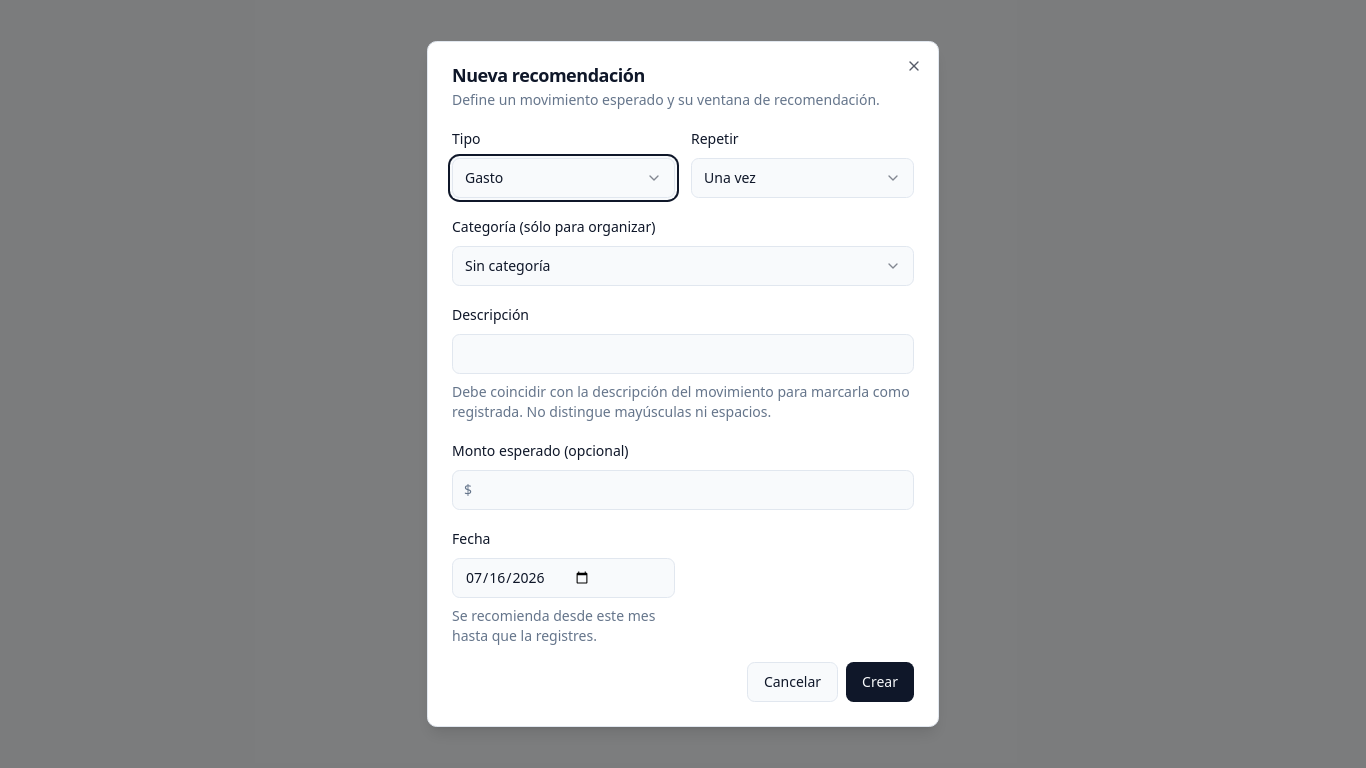
Test: RecommendedForm create › blocks submit without a description, which is the match key
Click the button "Crear". click: (880, 682)
box: 846,662 -> 914,702
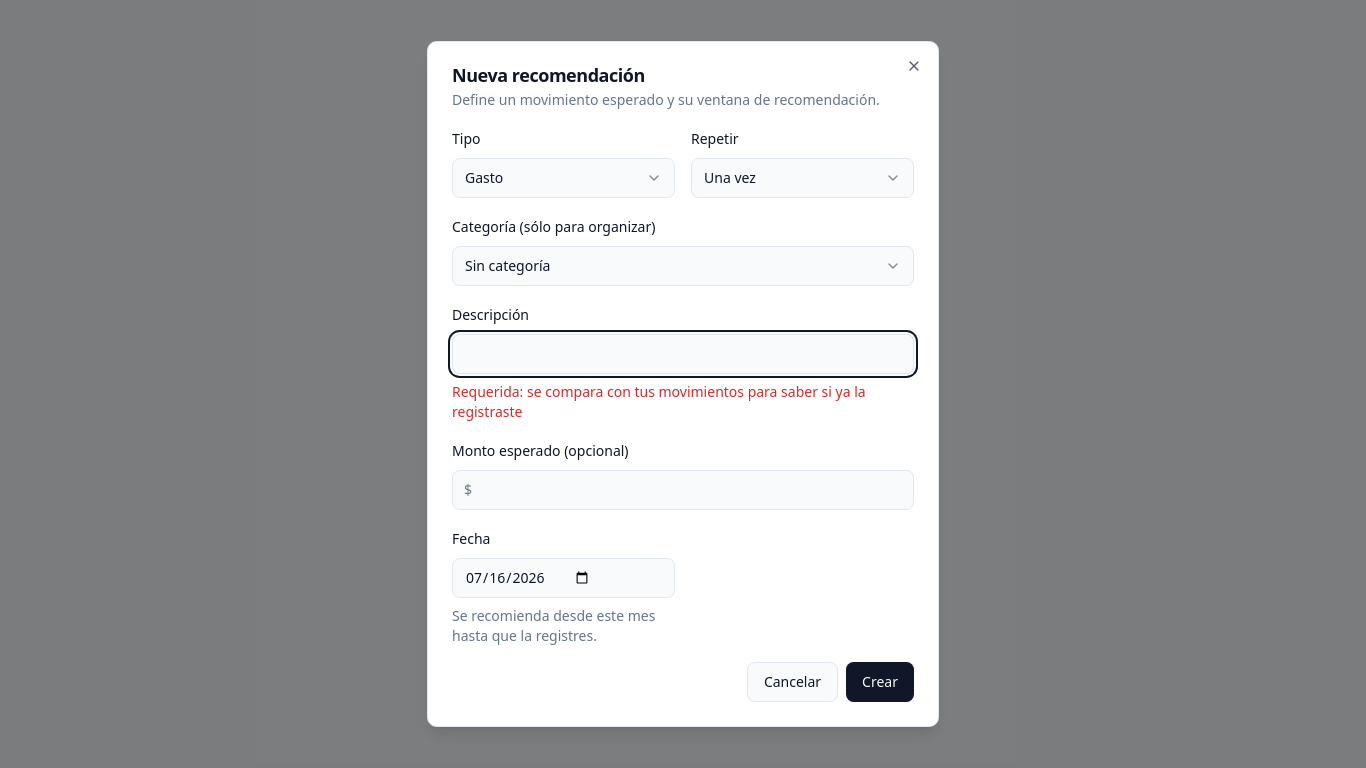
Expected: the text "Requerida: se compara con tus movimientos para saber si ya la registraste" is shown, 452,382 -> 914,422
